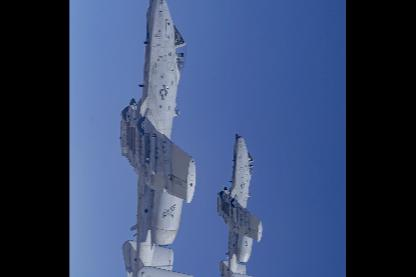A10: (119, 0, 196, 275), (217, 132, 263, 275)
